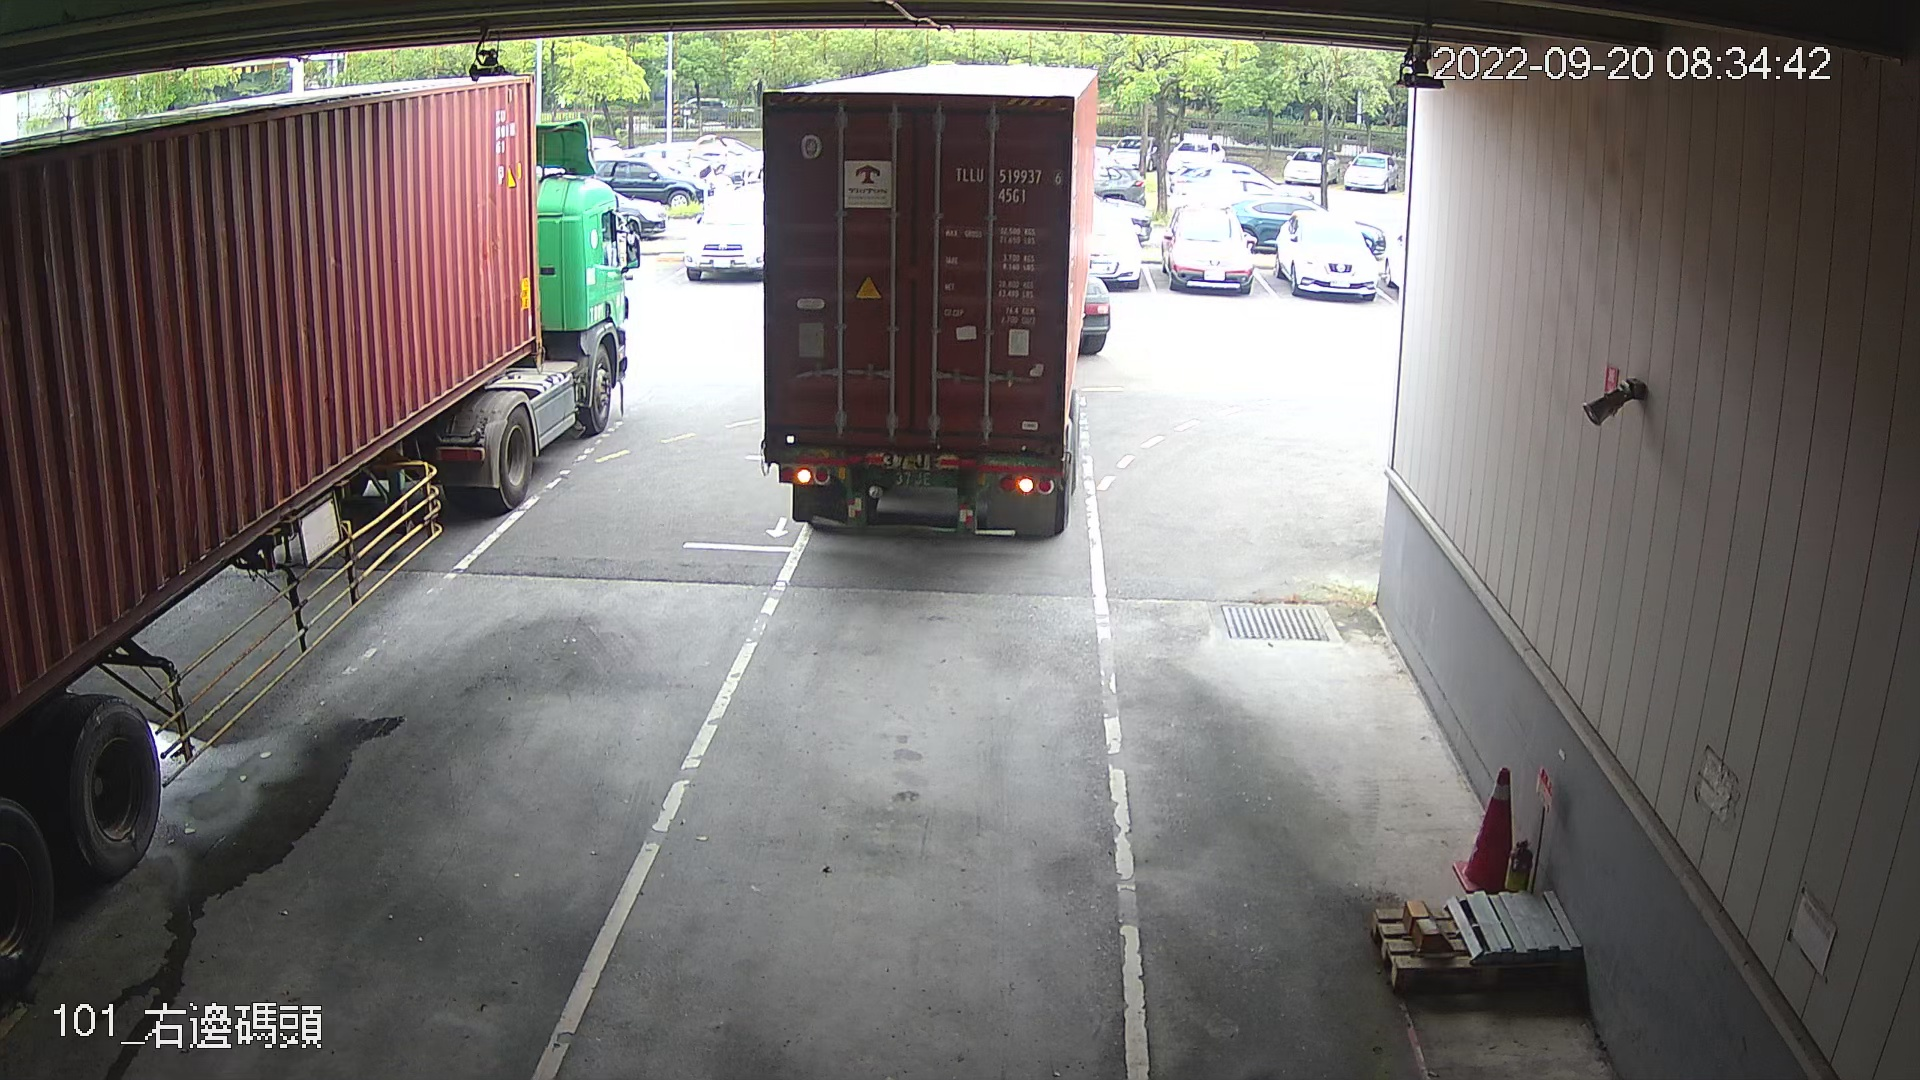container: (949, 157, 1069, 208)
